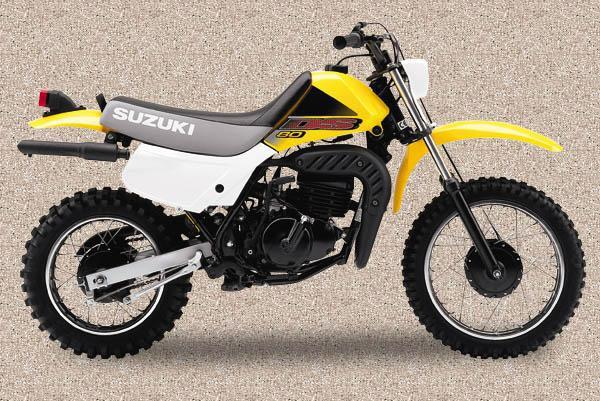motorcycle: (8, 1, 600, 373)
